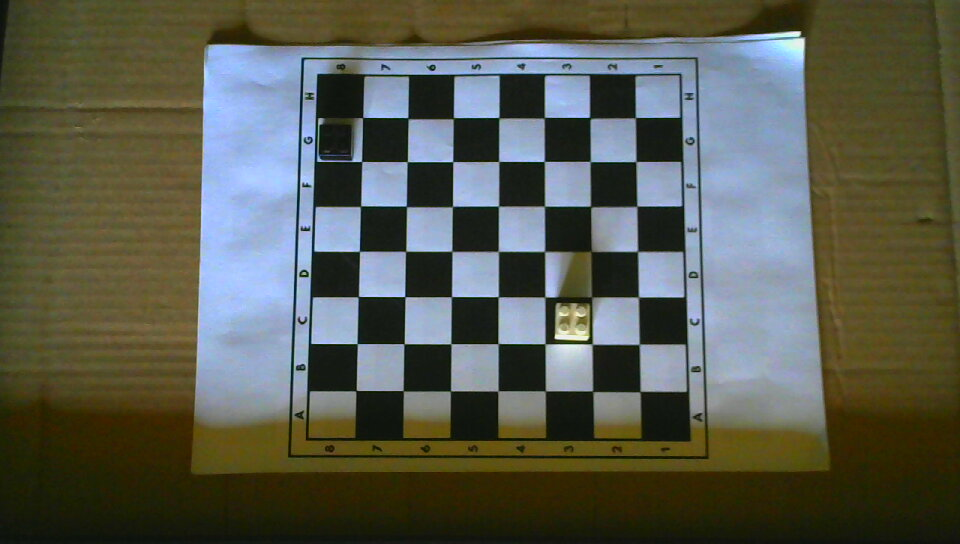bp: (315, 121, 353, 161)
wp: (552, 299, 591, 342)
